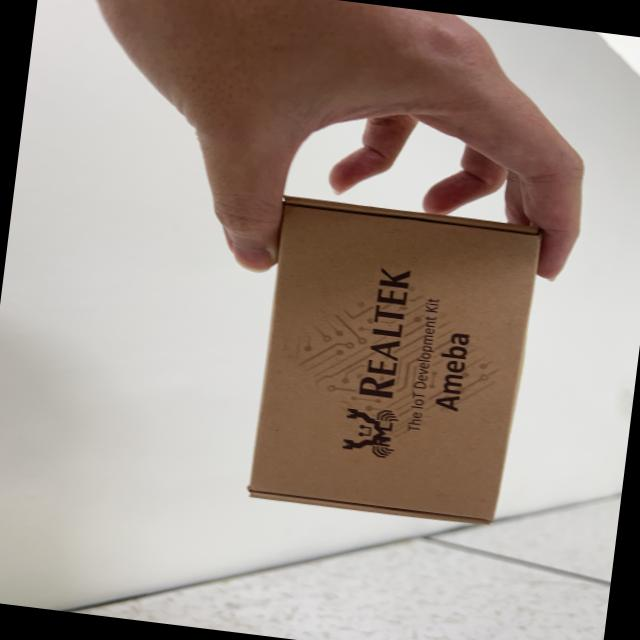box: (199, 174, 556, 558)
